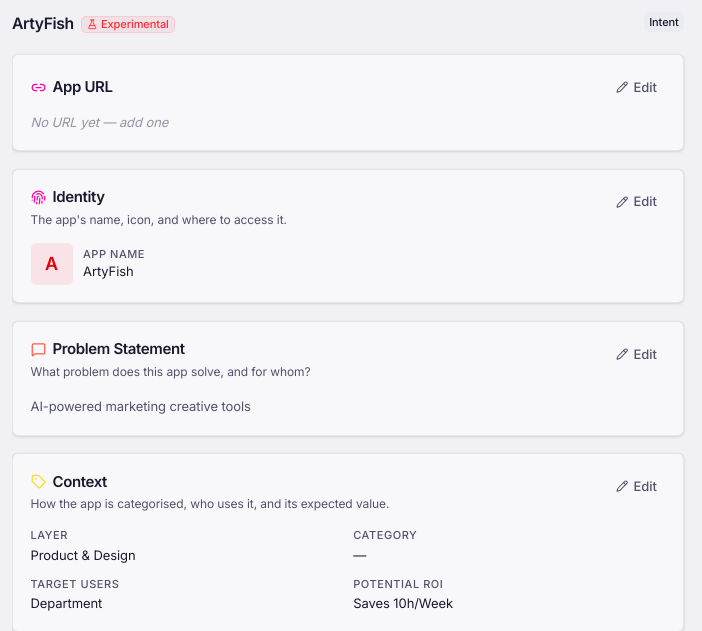
Test: AppProfileClient › shows error message on save failure
Click the button "Edit" in the row of "Identity". click: [636, 202]
box: [607,187,666,217]
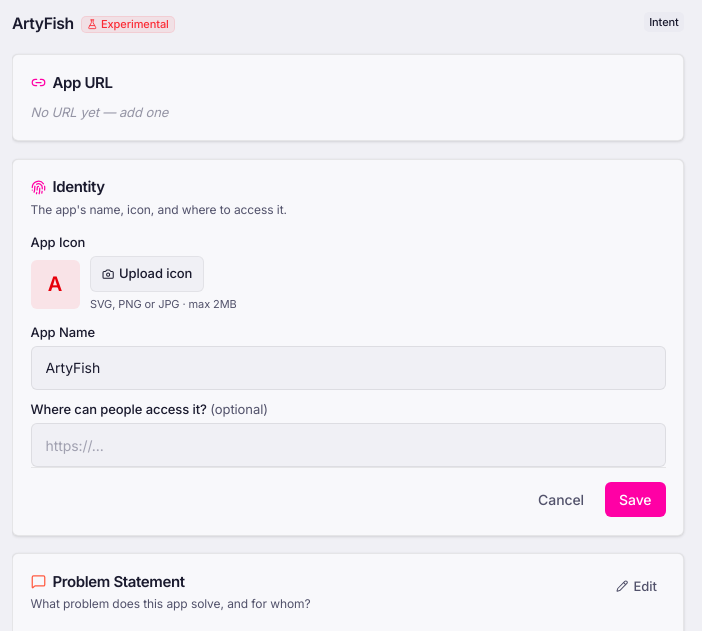
Click the button "Save". click: [635, 500]
box: [605,482,666,517]
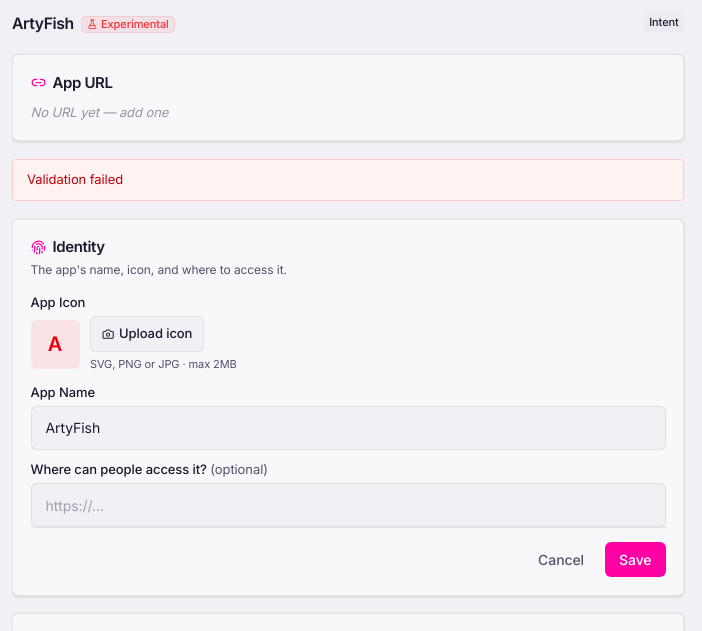
Expected: the text "Validation failed" is shown, [12,159,684,201]
